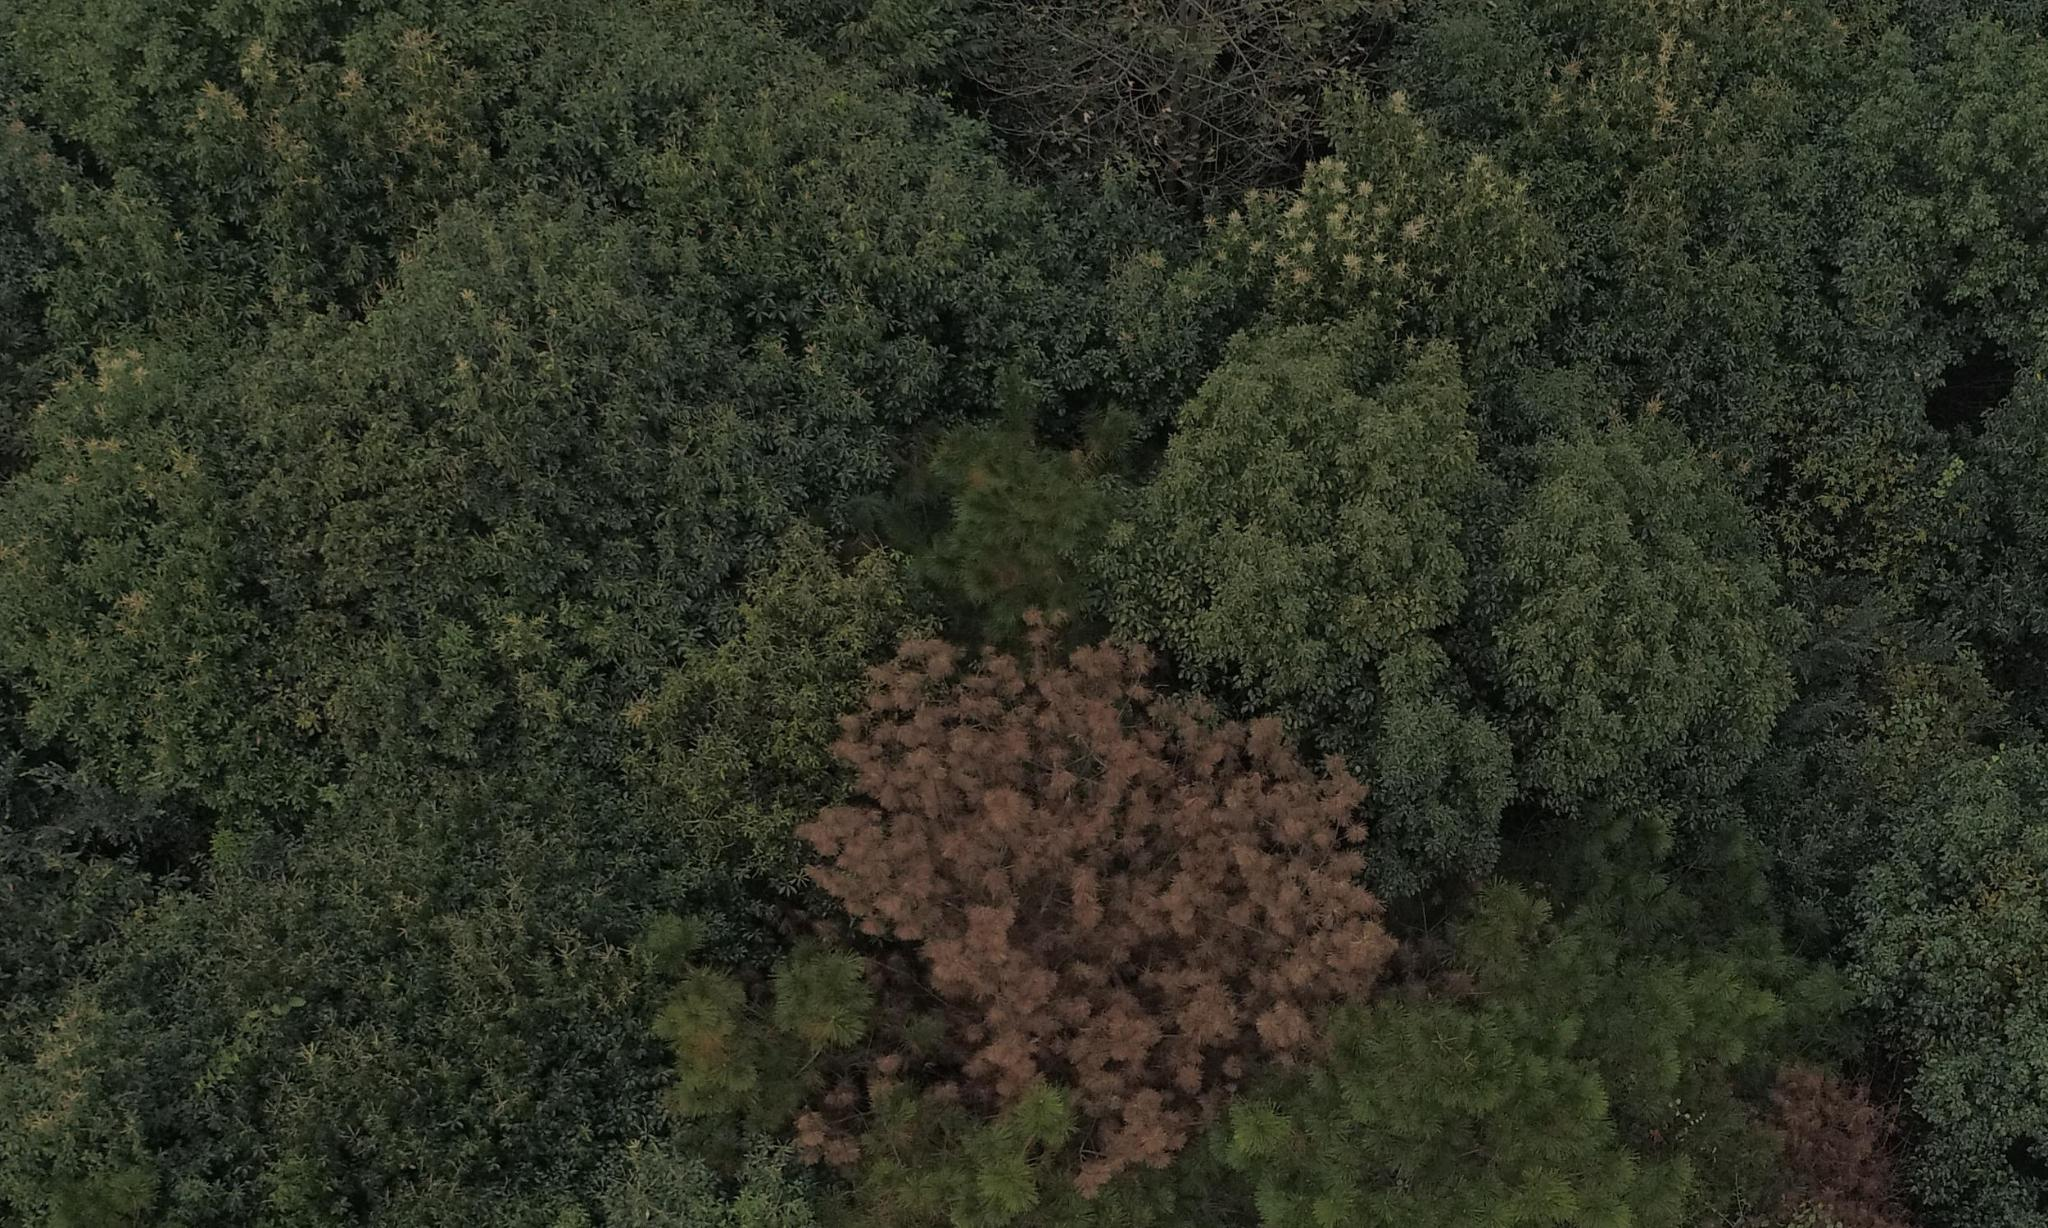heavy: (792, 610, 1396, 1197), (1742, 1050, 1893, 1205)
